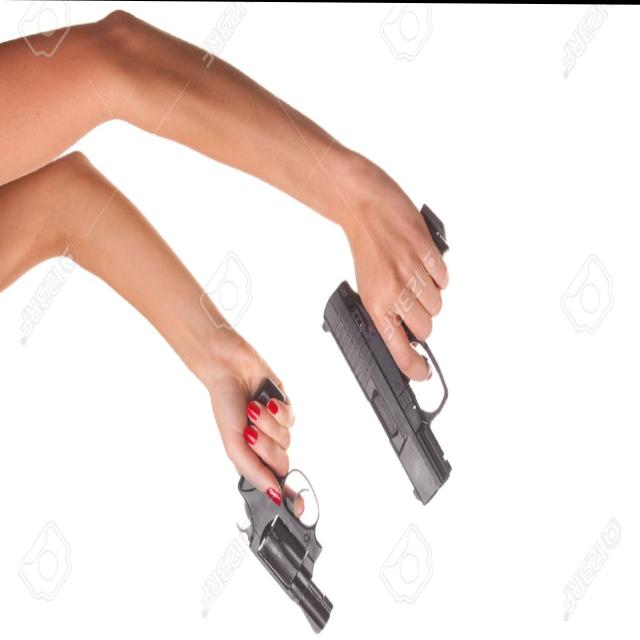handgun: (322, 196, 464, 507), (238, 375, 334, 635)
